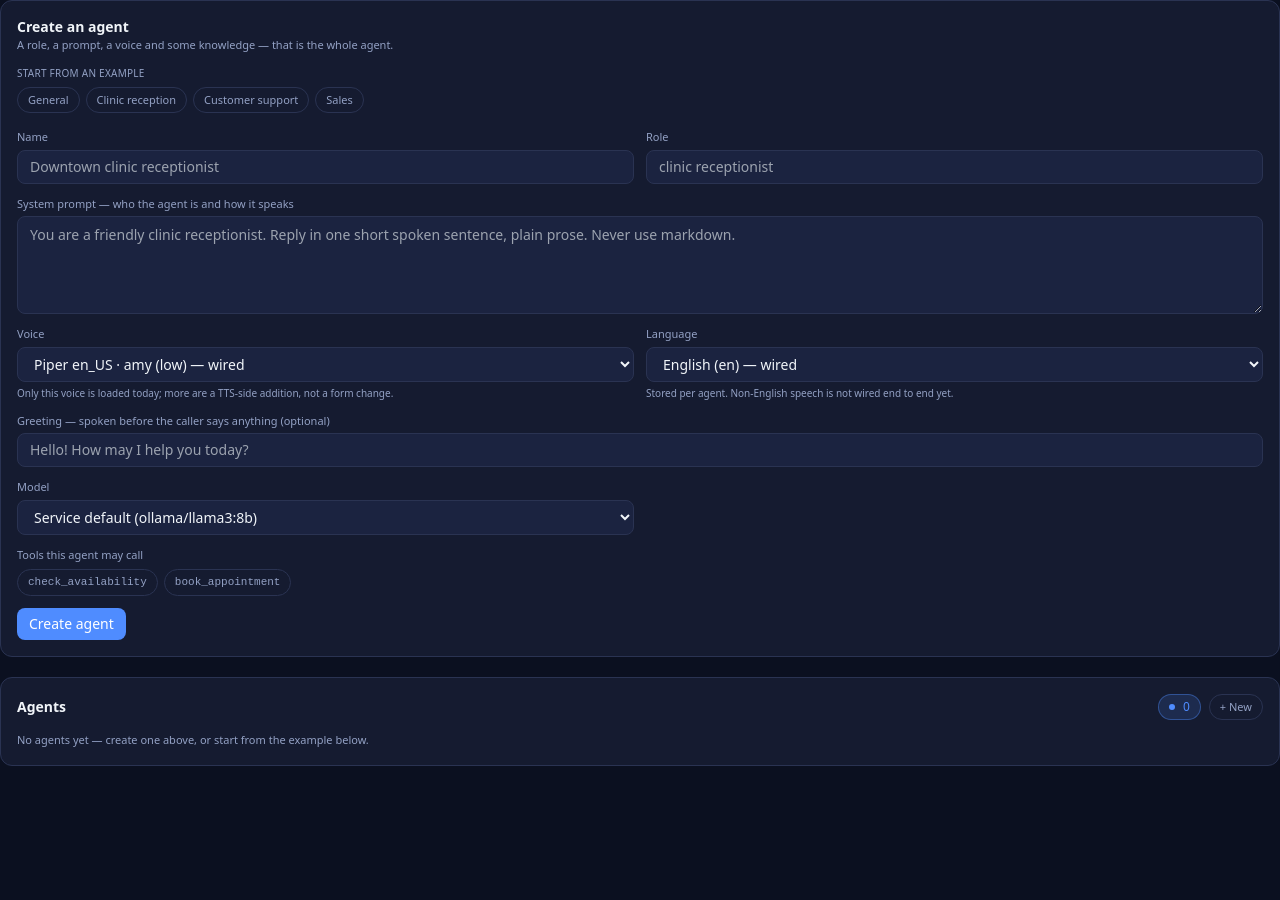
Scenario: AgentBuilder › fills the form from an example preset
The image size is (1280, 900).
expect the text "No agents yet" is shown: met, box x1=17 y1=732 x2=369 y2=747
Click the button with test id "preset-clinic".
click(136, 100)  # box x1=86 y1=86 x2=187 y2=113
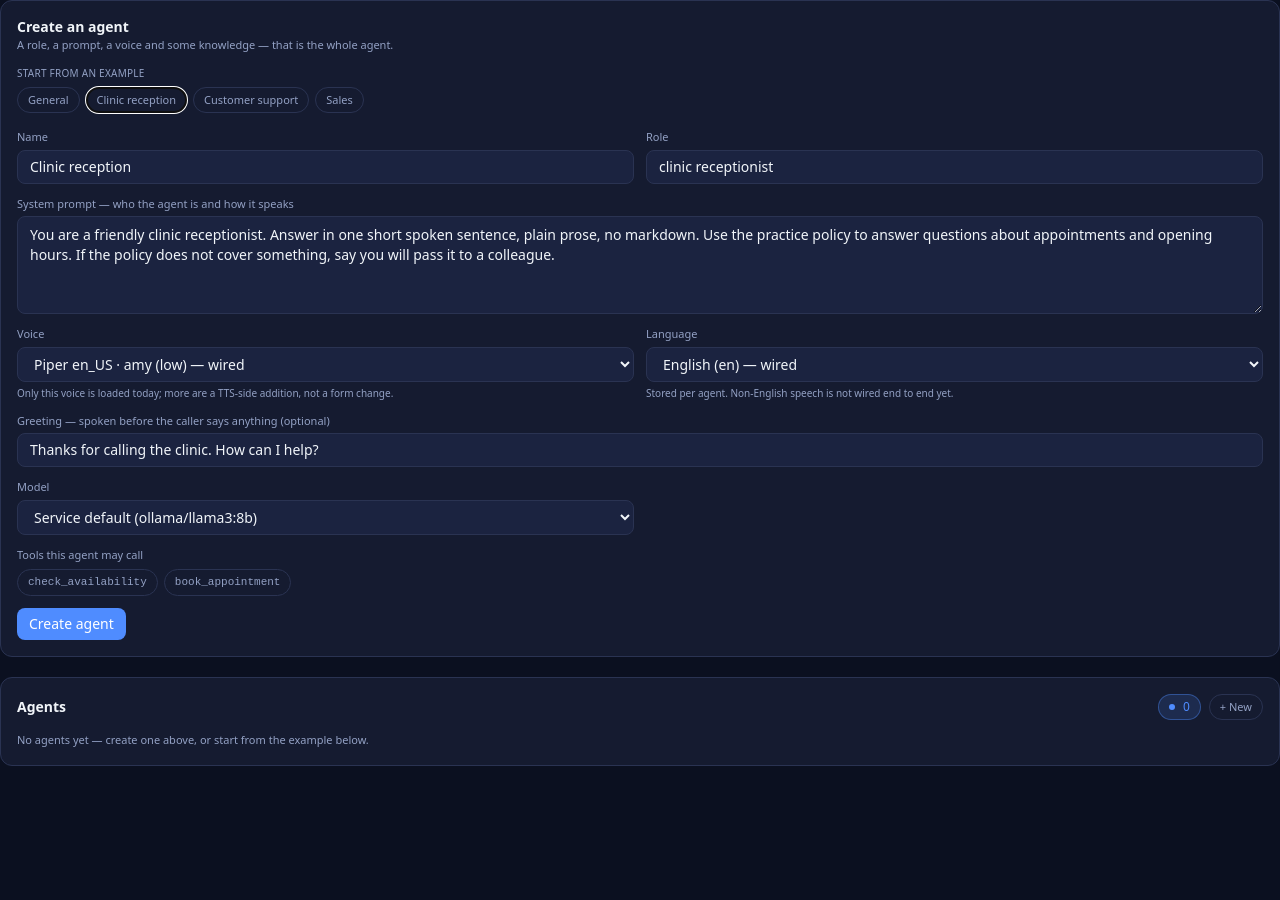
expect the field with test id "agent-name" holds "Clinic reception": met, box x1=17 y1=150 x2=634 y2=184
expect the field with test id "agent-greeting" holds "Thanks for calling the clinic. How can I help?": met, box x1=17 y1=433 x2=1263 y2=467
